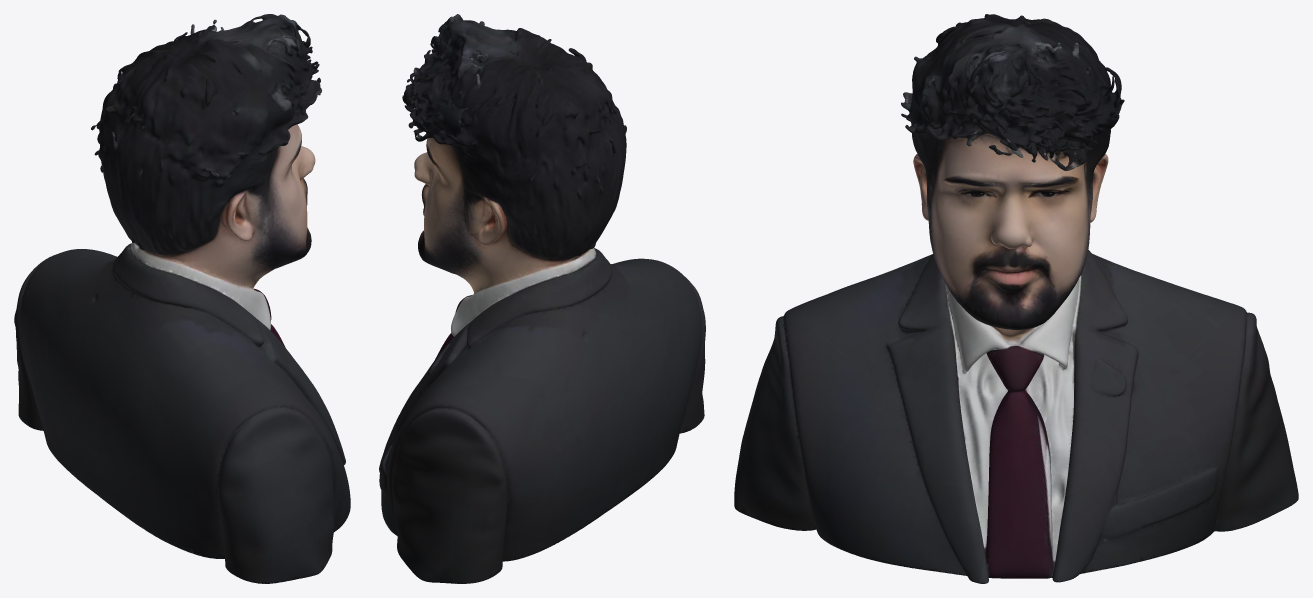
The model's file is businessman.glb.
3 views of the same model, side by side, from view 1: azimuth 30°, elevation 25°; view 2: azimuth 150°, elevation 25°; view 3: azimuth 270°, elevation 25° (orthographic). The views are drawn at different scales.
Visible parts, largest first — view 1: tripo_node_e316a4b8-adb6-45f8-b1da-f4a946bf62b1; view 2: tripo_node_e316a4b8-adb6-45f8-b1da-f4a946bf62b1; view 3: tripo_node_e316a4b8-adb6-45f8-b1da-f4a946bf62b1.
Part boxes in pixels (box(x1,y1,x2,y2)): tripo_node_e316a4b8-adb6-45f8-b1da-f4a946bf62b1: box(14, 14, 350, 583); tripo_node_e316a4b8-adb6-45f8-b1da-f4a946bf62b1: box(379, 14, 705, 583); tripo_node_e316a4b8-adb6-45f8-b1da-f4a946bf62b1: box(734, 14, 1298, 583).
Size of the model in its own units: 0.5404 by 0.985 by 1.
1 material, 1 textured.
